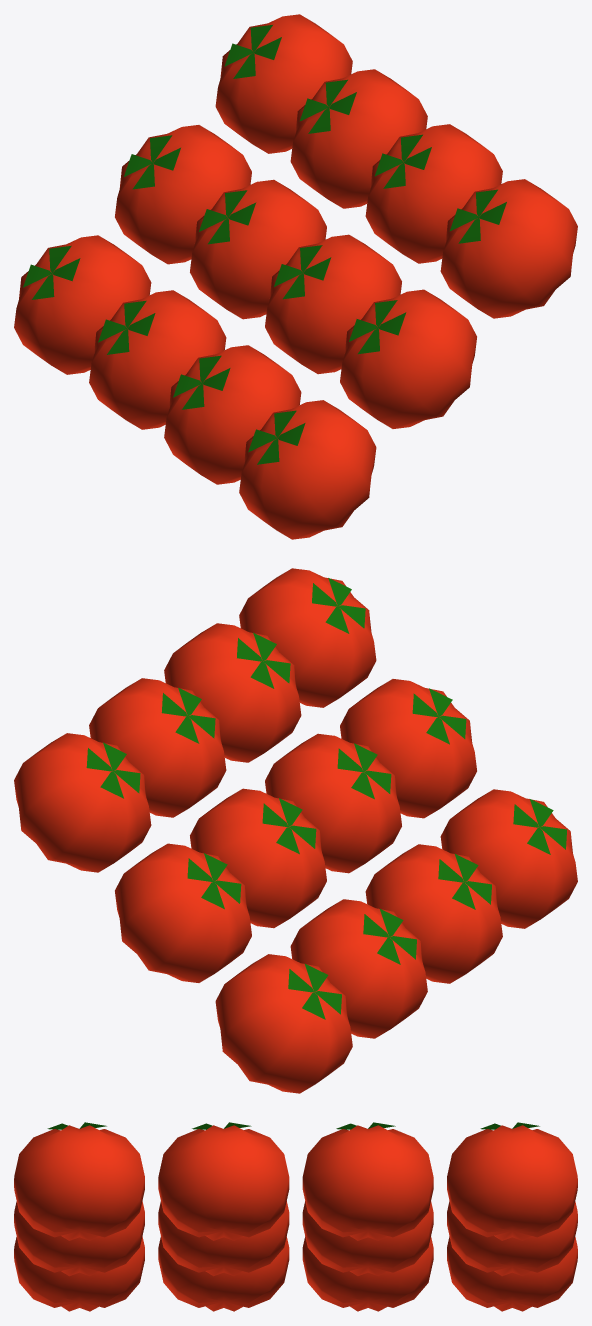
Rendered from food-skewer-2.glb.
3 renders of one model, top to bottom at view 1: azimuth 30°, elevation 25°; view 2: azimuth 150°, elevation 25°; view 3: azimuth 270°, elevation 25°, orthographic. The views are drawn at different scales.
Visible parts, largest first — view 1: Object_53; view 2: Object_53; view 3: Object_53.
Boxes of the visible parts, x1=… form: Object_53: x1=14, y1=14, x2=577, y2=539; Object_53: x1=14, y1=568, x2=577, y2=1093; Object_53: x1=14, y1=1122, x2=577, y2=1311.
Size of the model in its own units: 0.3599 by 0.317 by 0.5822.
1 material, 1 textured.
